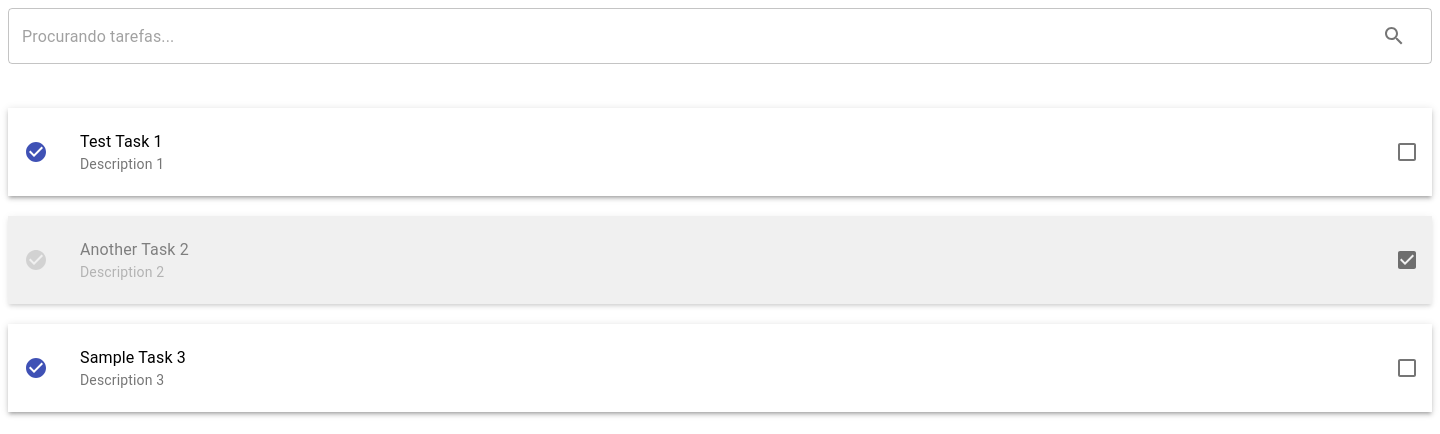
it: TasksList Component › should return default text if the search did not find a task
The image size is (1440, 434).
Expected: the text "Test Task 1" is shown, [80,132,163,151]
Type "task that does not exist" into the field at (685, 36), box [8,8,1362,64]
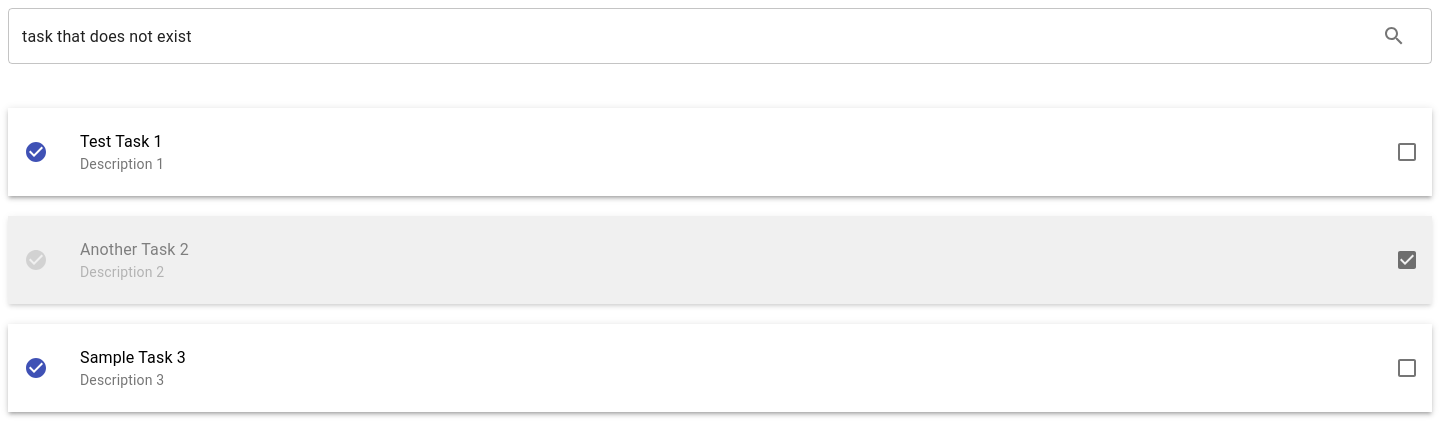
Click the button with test id "SearchIcon" at (1394, 36), box [1370,12,1418,60]
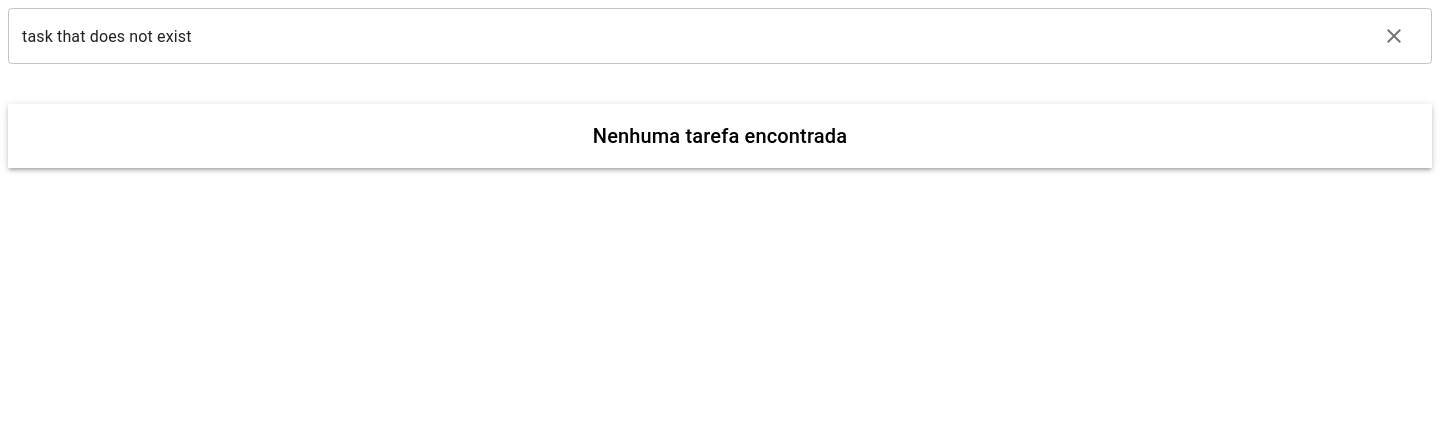
Now the heading "Nenhuma tarefa encontrada" is shown, box [593,124,847,148]
